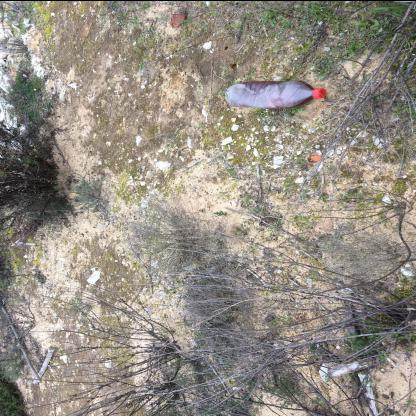plastik: (225, 80, 327, 110)
